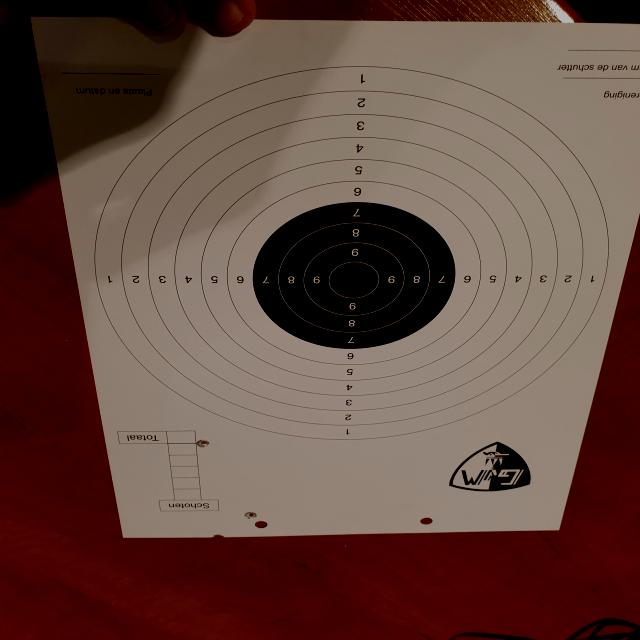0: (197, 438, 210, 448), (244, 512, 258, 520), (213, 534, 224, 538)
Target: (94, 64, 612, 443)
black_contour: (253, 202, 457, 349)
